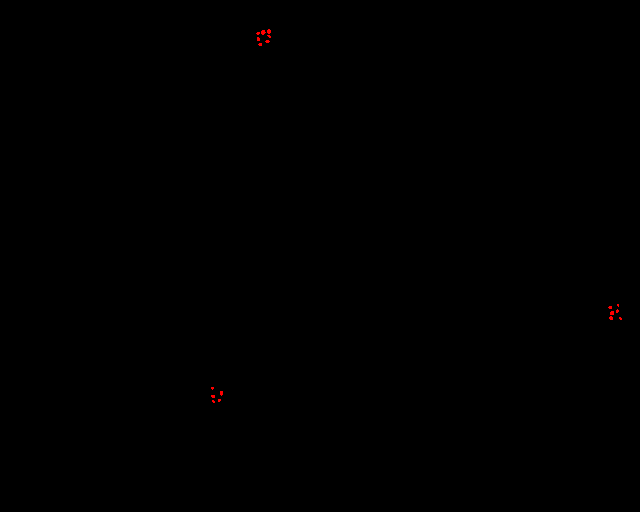Target: (261, 30, 266, 35), (267, 29, 271, 34), (610, 311, 614, 315), (609, 316, 613, 320), (265, 40, 270, 43), (220, 391, 223, 396), (256, 32, 260, 35), (267, 35, 271, 38), (257, 37, 260, 41), (258, 43, 262, 46), (608, 306, 612, 309), (616, 309, 619, 313), (211, 395, 215, 398), (619, 317, 622, 320), (211, 387, 214, 390), (218, 399, 221, 402), (212, 400, 215, 403), (617, 304, 619, 307)
